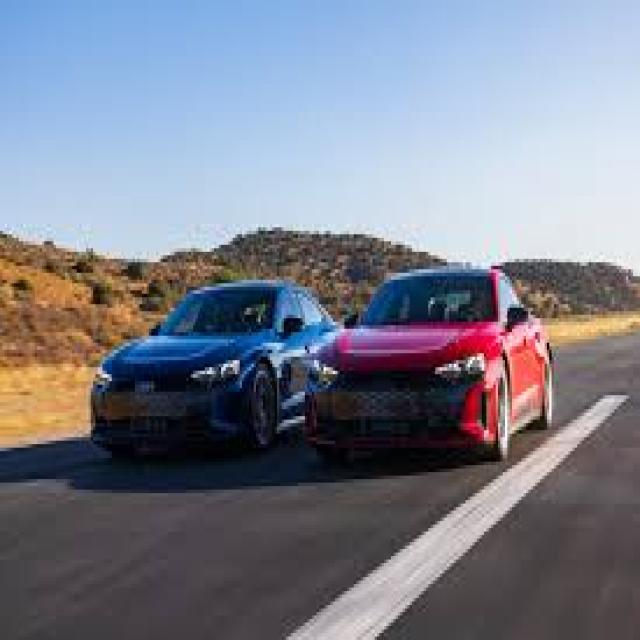Car: (91, 269, 553, 457)
